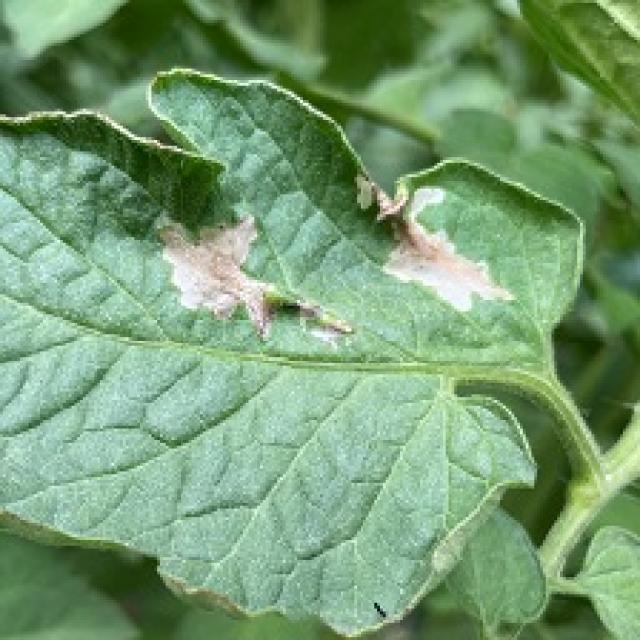Tuta absoluta: (376, 179, 541, 329), (163, 206, 279, 350), (345, 169, 408, 226)
